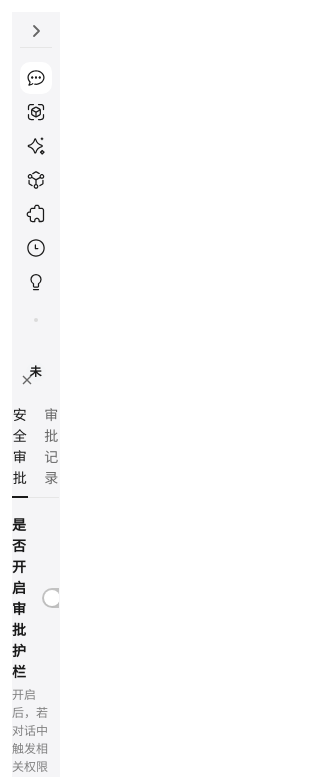
Test case: ThreadSidebar menu visibility › shows the scheduled tasks menu entry with a right tooltip when collapsed
Hover over the button with test id "sidebar-menu-scheduled-tasks" at (36, 248), box [20,232,52,264]
Wait 200 ms
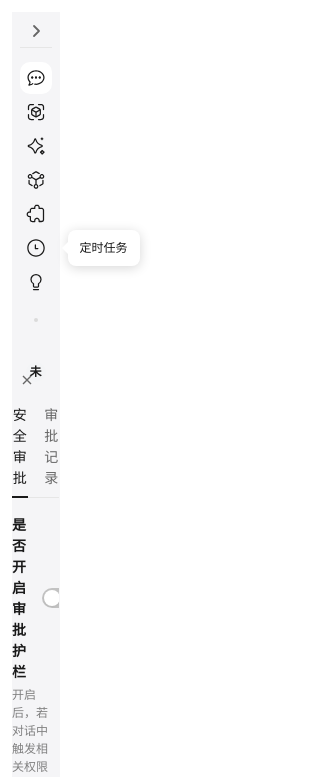
Result: the tooltip "定时任务" is shown at [68,230,140,266]
